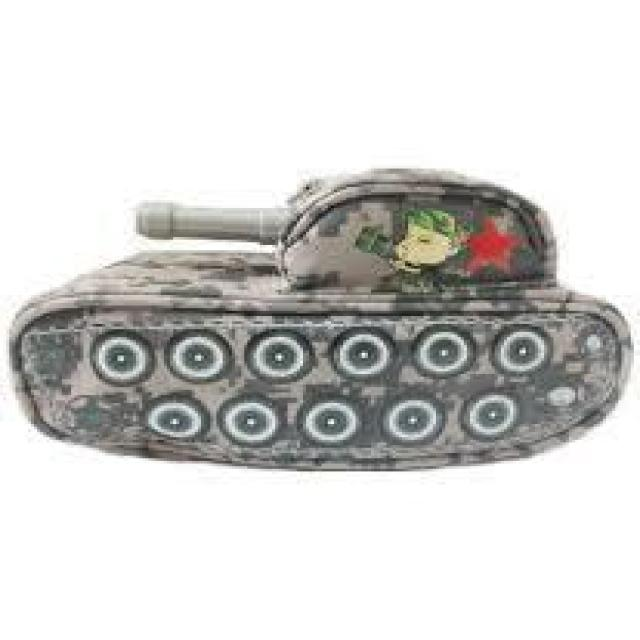Tanks: (9, 165, 634, 472)
